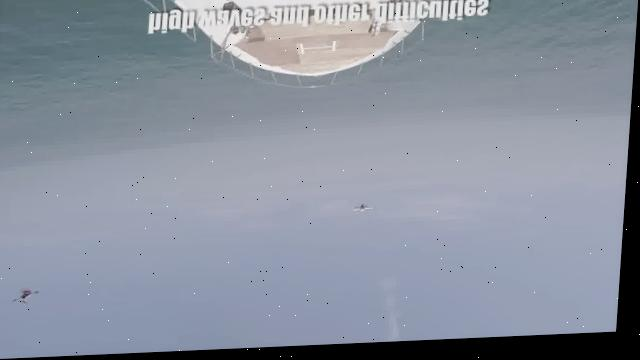drone: (13, 285, 43, 308), (353, 205, 379, 221)
